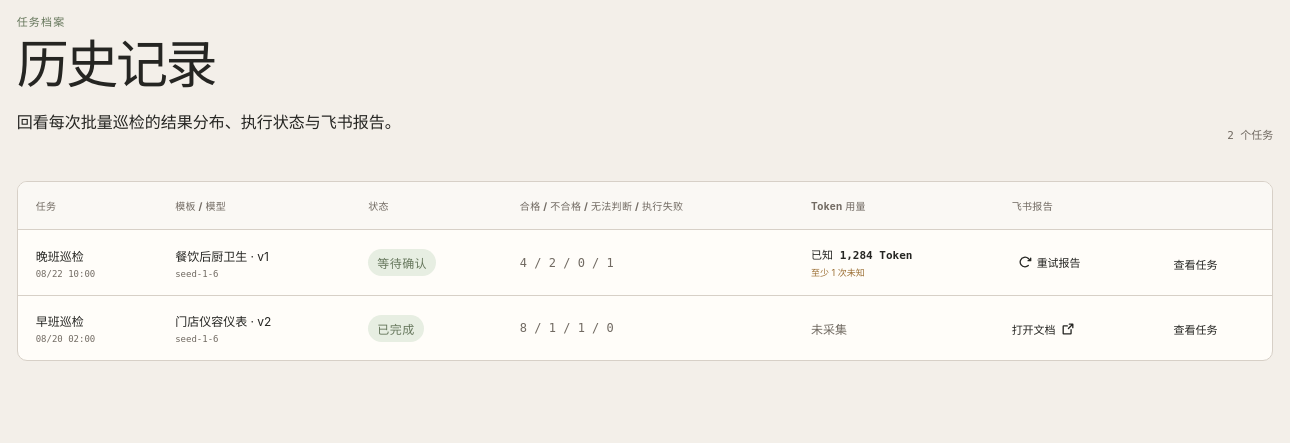
Test case: retries a failed report with explicit failed-image inclusion
Click the button with aria-label "重试晚班巡检报告": (1049, 262) [1012, 253, 1087, 271]
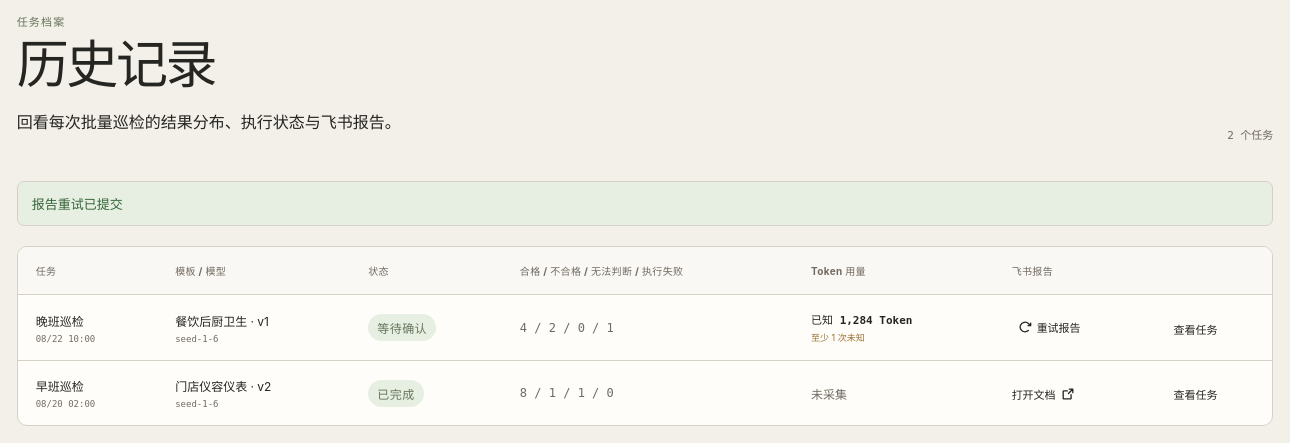
Result: the text "报告重试已提交" is shown at [17, 181, 1273, 226]
